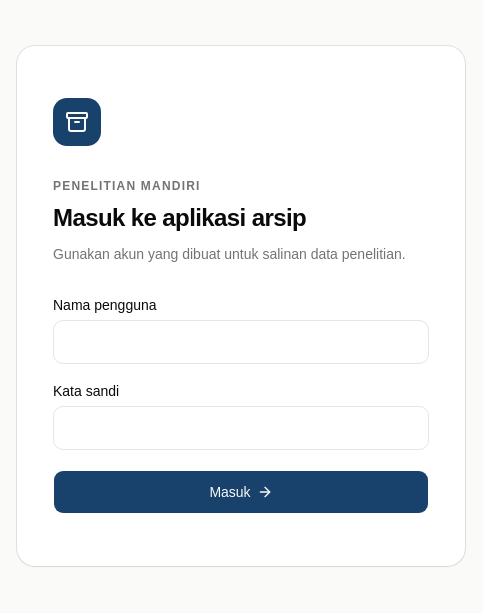
Scenario: alur sesi React › mengalihkan sesi anonim dan menampilkan galat login
The image size is (483, 613).
Check: the heading "Masuk ke aplikasi arsip" is shown, box [53,204,306,231]
In the field labelled "Nama pengguna": (241, 342) [53,320,429,364], type "petugas"
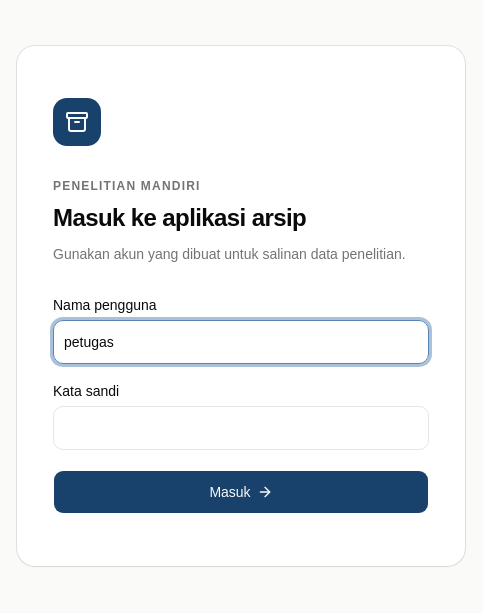
In the password field labelled "Kata sandi": (241, 428) [53,406,429,450], type "salah"
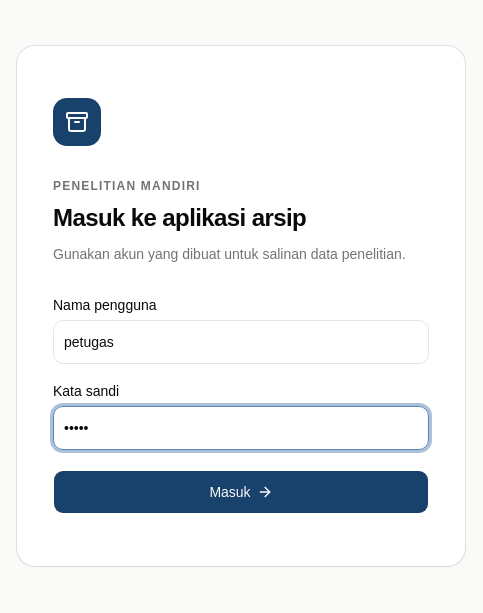
Click the button "Masuk": (241, 492) [53,470,429,514]
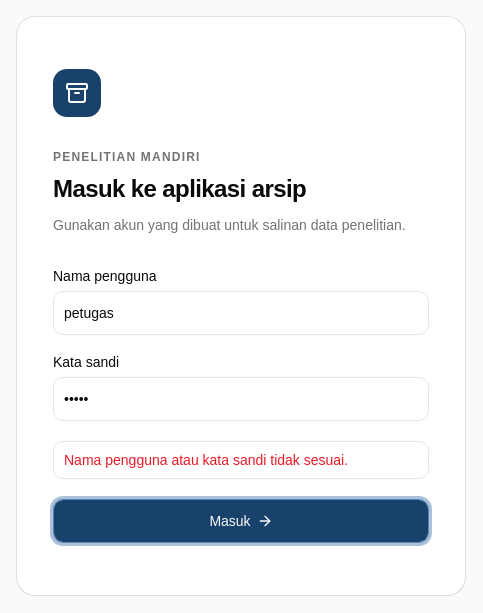
Check: the message reads "Nama pengguna atau kata sandi tidak sesuai.", box [64,452,348,468]
